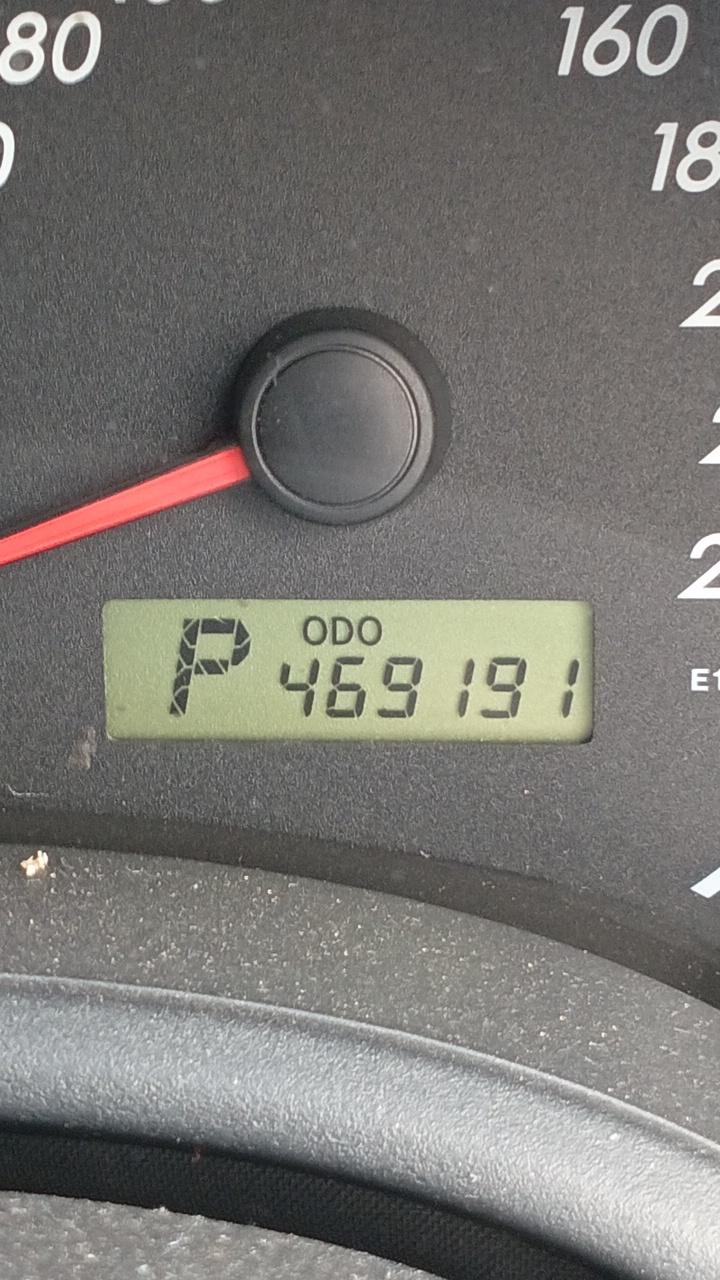1: (558, 656, 580, 718), (454, 655, 475, 719)
4: (277, 658, 322, 719)
6: (325, 656, 367, 719)
9: (478, 655, 528, 720), (376, 655, 425, 720)
X: (165, 613, 252, 716), (301, 615, 328, 646), (357, 615, 383, 646), (330, 616, 354, 646)
odometer: (101, 597, 597, 748)
